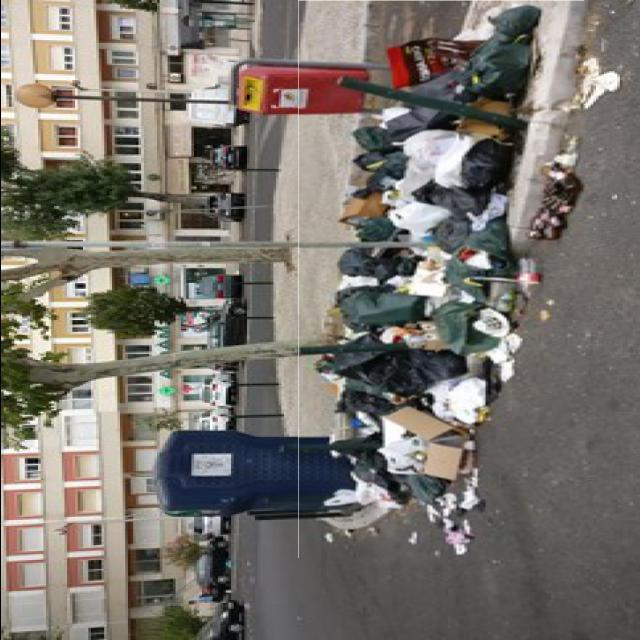Trashbag: (348, 353, 462, 389), (457, 144, 498, 182)
